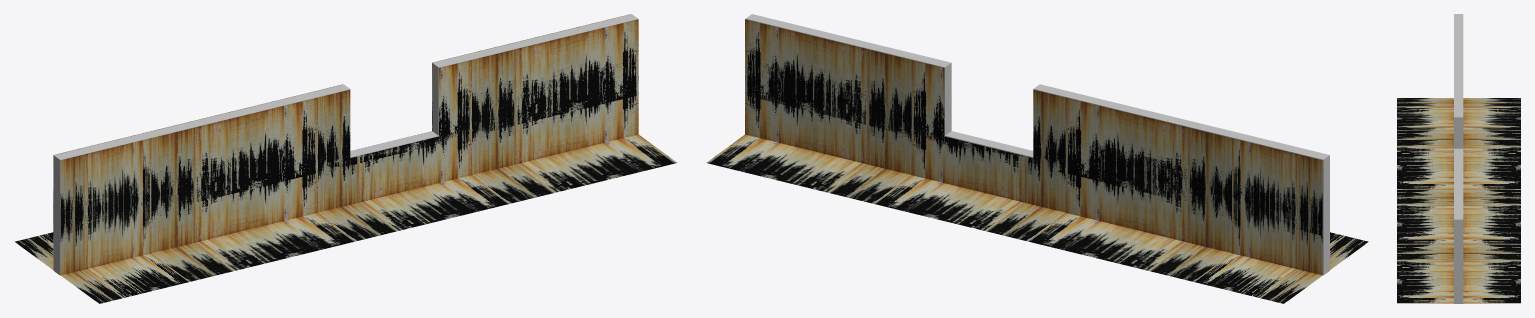
File: TiledBrick6.FBX
The picture shows the model from 3 angles, left to right: view 1: azimuth 30°, elevation 25°; view 2: azimuth 150°, elevation 25°; view 3: azimuth 270°, elevation 25°; orthographic projection. The views are drawn at different scales.
Parts seen in each view (by area): view 1: TiledBrick6; view 2: TiledBrick6; view 3: TiledBrick6.
Boxes of the visible parts, <box> form: TiledBrick6: <box>15,14,677,303</box>; TiledBrick6: <box>706,14,1368,303</box>; TiledBrick6: <box>1397,14,1520,303</box>.
Size of the model in its own units: 1048 by 200 by 267.
